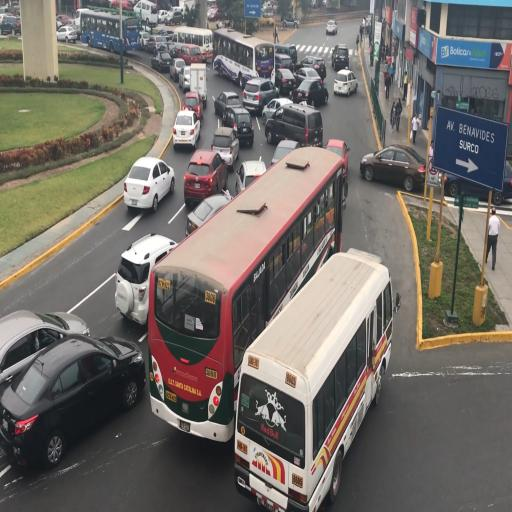auto: (1, 329, 146, 472), (1, 310, 91, 394), (116, 232, 178, 321), (440, 157, 510, 203), (360, 144, 425, 192), (123, 156, 175, 214), (266, 102, 321, 149), (184, 149, 226, 207), (186, 191, 232, 237), (211, 125, 241, 168), (172, 108, 201, 152), (235, 157, 266, 196), (291, 76, 327, 108), (262, 96, 295, 127), (228, 107, 254, 146), (324, 138, 349, 178), (214, 90, 242, 120), (296, 56, 325, 83), (271, 138, 301, 164), (181, 90, 203, 123), (333, 68, 357, 97), (150, 49, 172, 73), (331, 43, 349, 71), (144, 33, 165, 55), (156, 33, 176, 56), (0, 13, 20, 35), (55, 24, 78, 43), (170, 56, 186, 83), (166, 6, 184, 24), (55, 14, 74, 28), (157, 9, 171, 23), (326, 19, 338, 35)
bus: (189, 62, 207, 106), (182, 0, 198, 22)
moto: (233, 250, 386, 507), (215, 29, 276, 90), (82, 10, 137, 56), (173, 26, 213, 64), (133, 0, 158, 26), (74, 8, 94, 35)
